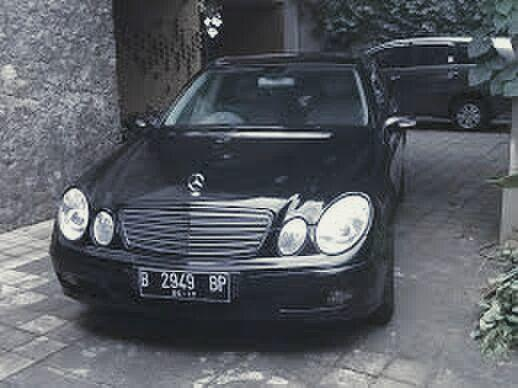plate: (140, 269, 228, 301)
